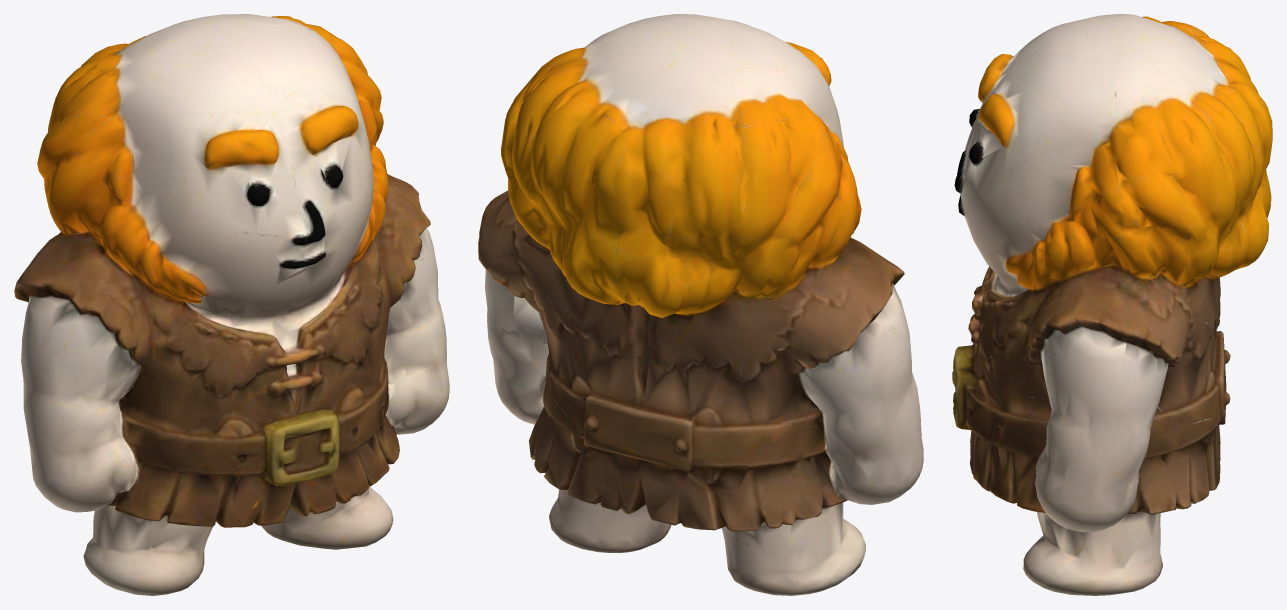
File: Gigante.glb
3 renders of one model, left to right at view 1: azimuth 30°, elevation 25°; view 2: azimuth 150°, elevation 25°; view 3: azimuth 270°, elevation 25°, orthographic. The views are drawn at different scales.
Bounding box in the file's own units: 1.59 × 1.9 × 1.11.
Materials: 1 (1 with a texture image).
